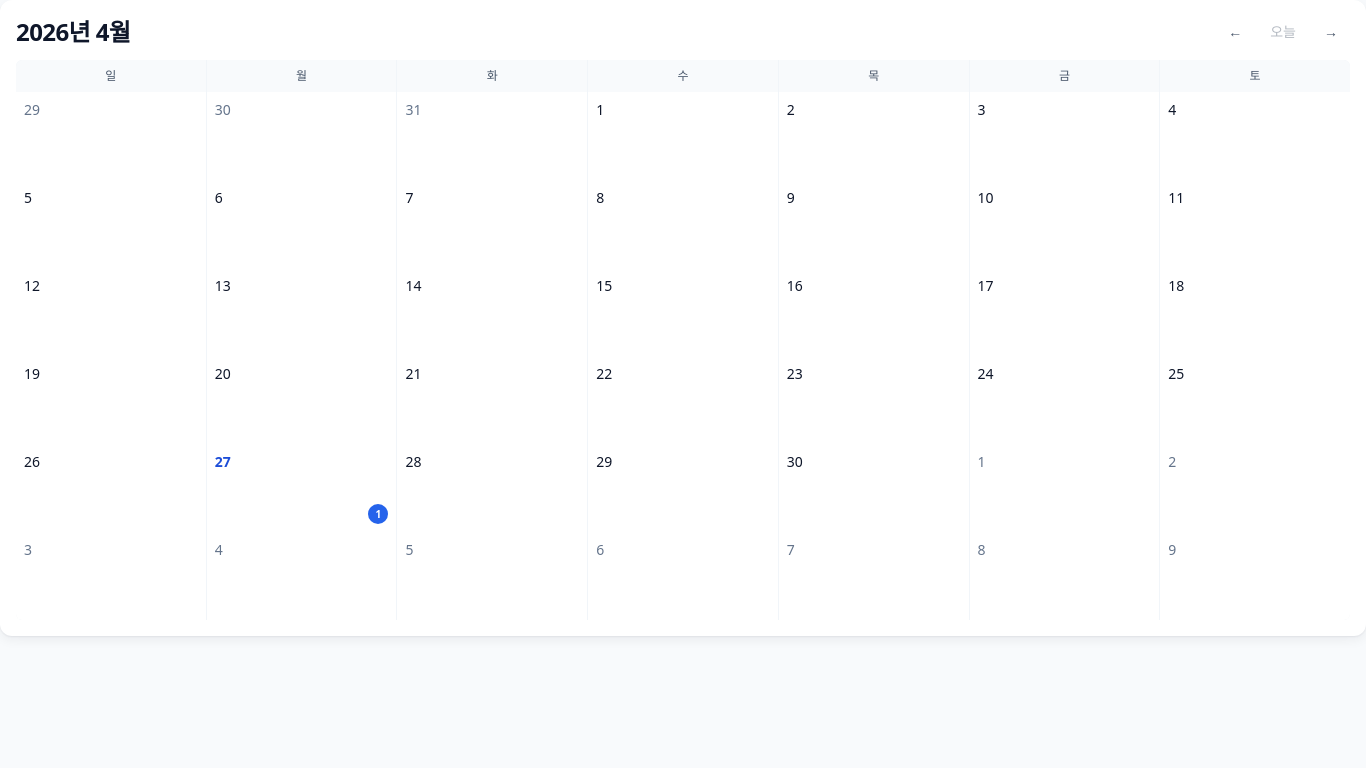
Scenario: Remove + undo flow (#13) › 삭제 즉시 목록에서 사라지고 undo 토스트가 노출된다 (AC-1)
The width and height of the screenshot is (1366, 768).
Click the cell labelled "27 1".
click(302, 488)  # box [207,444,396,532]
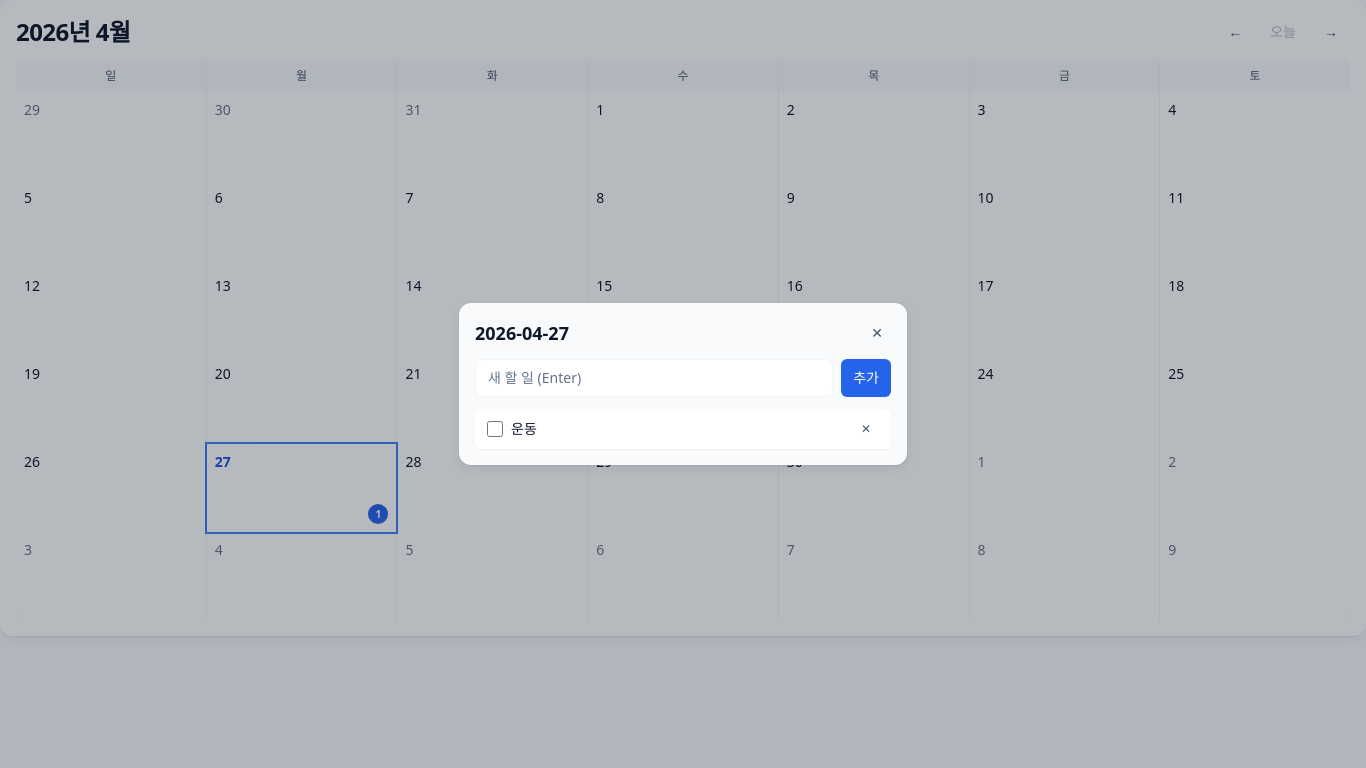
Click the button with test id "todo-remove".
click(866, 429)  # box [853,417,879,441]
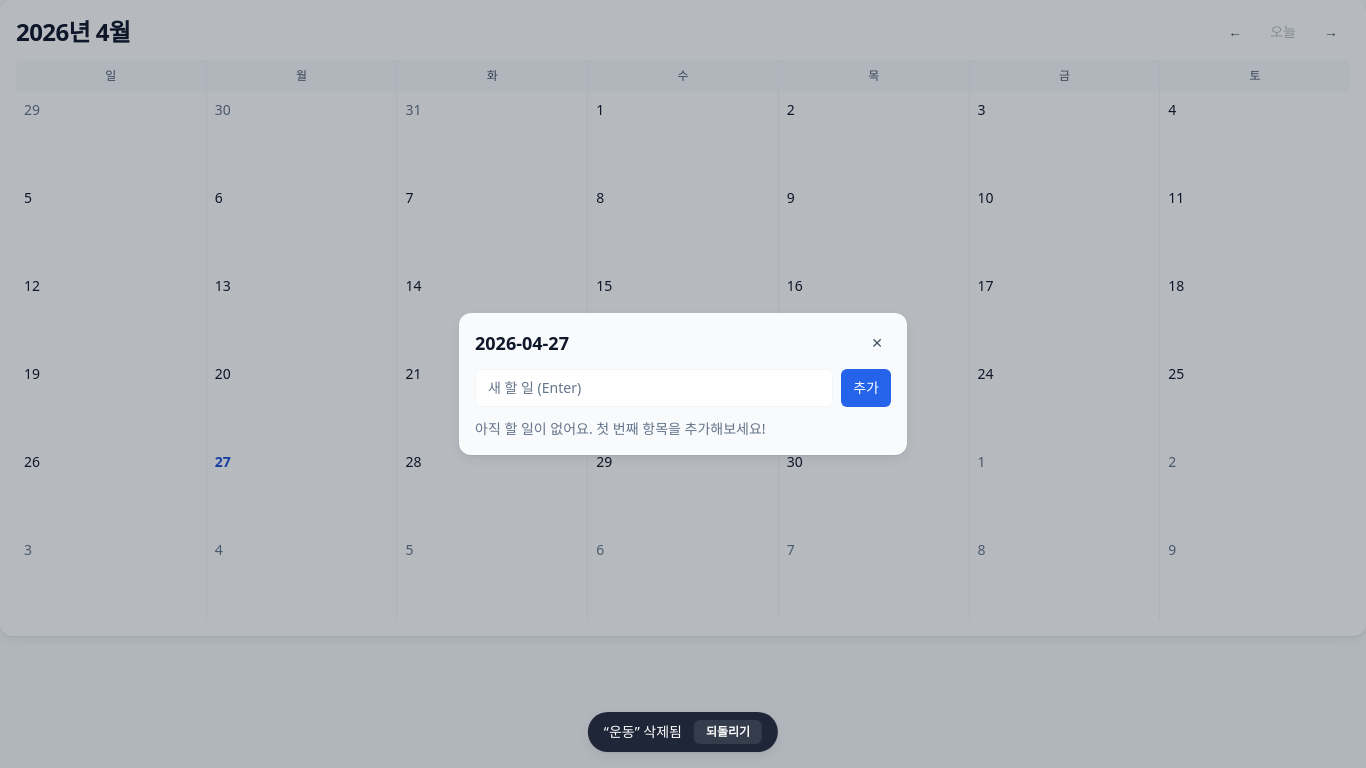
Check: the list item with test id "todo-item" is gone
Check: the message "“운동” 삭제됨 되돌리기" is shown, box [588,712,778,752]
